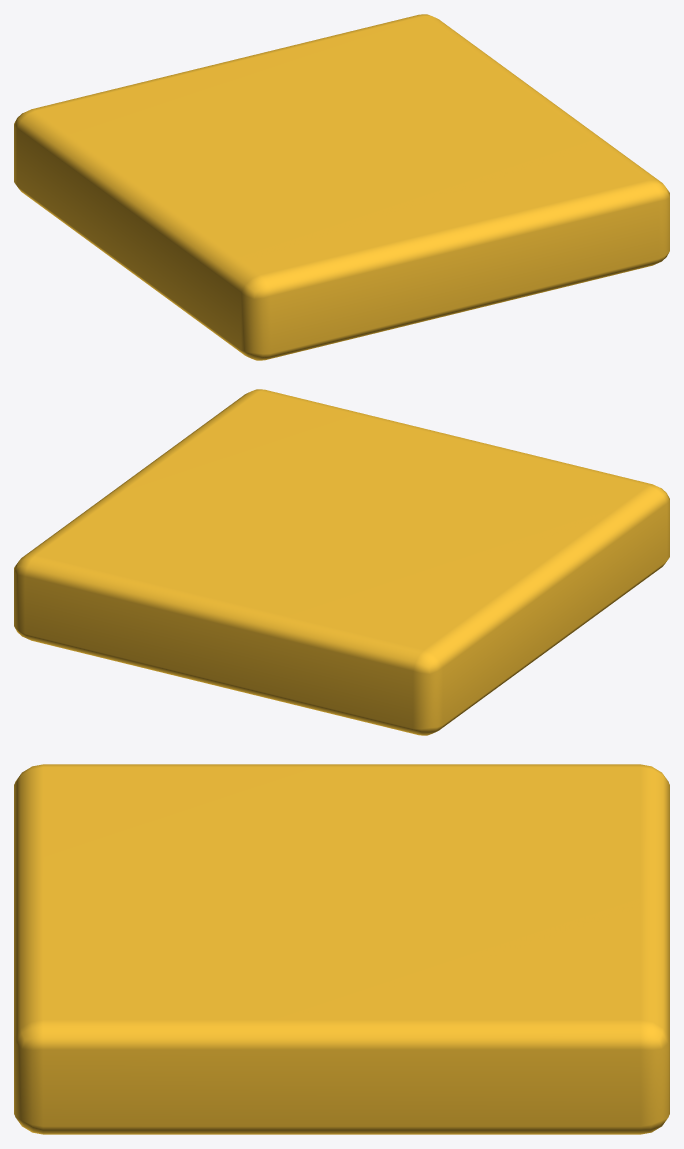
The model's file is Yellow_Box2.fbx.
The picture shows the model from 3 angles, top to bottom: view 1: azimuth 30°, elevation 25°; view 2: azimuth 150°, elevation 25°; view 3: azimuth 270°, elevation 25°; orthographic projection. The views are drawn at different scales.
Visible parts, largest first — view 1: Yellow_Box2; view 2: Yellow_Box2; view 3: Yellow_Box2.
Part boxes in pixels (x1,y1,x2,y2): Yellow_Box2: (14, 14, 669, 360); Yellow_Box2: (14, 389, 669, 735); Yellow_Box2: (14, 764, 669, 1134).
Size of the model in its own units: 124 by 23.27 by 124.
Materials: 1 (1 with a texture image).
